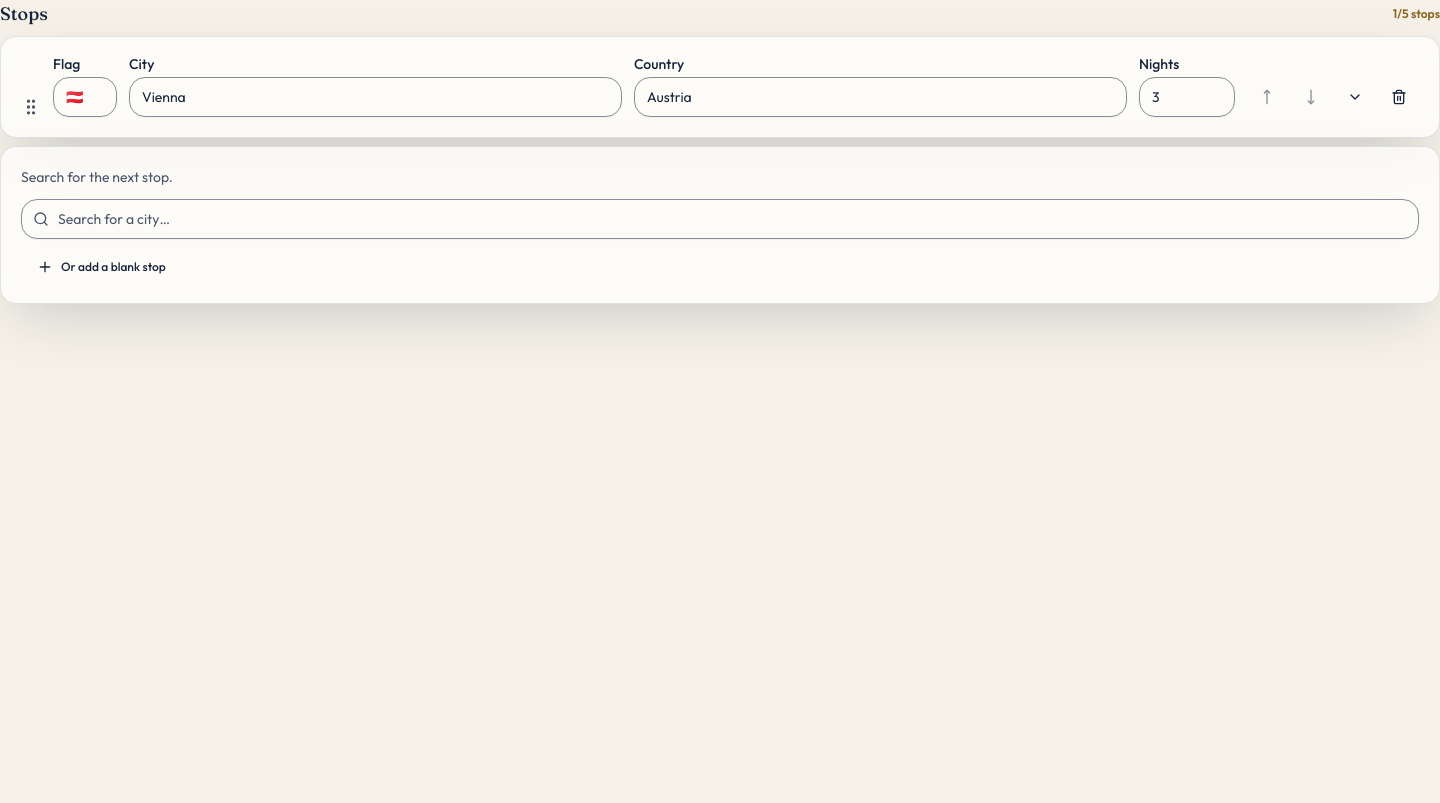
StopList › expands a stop row to reveal its detail fields
Check: the field showing "Coffee houses" is not shown
Click the button named "Edit all details" at (1355, 97), box [1335,77,1375,117]
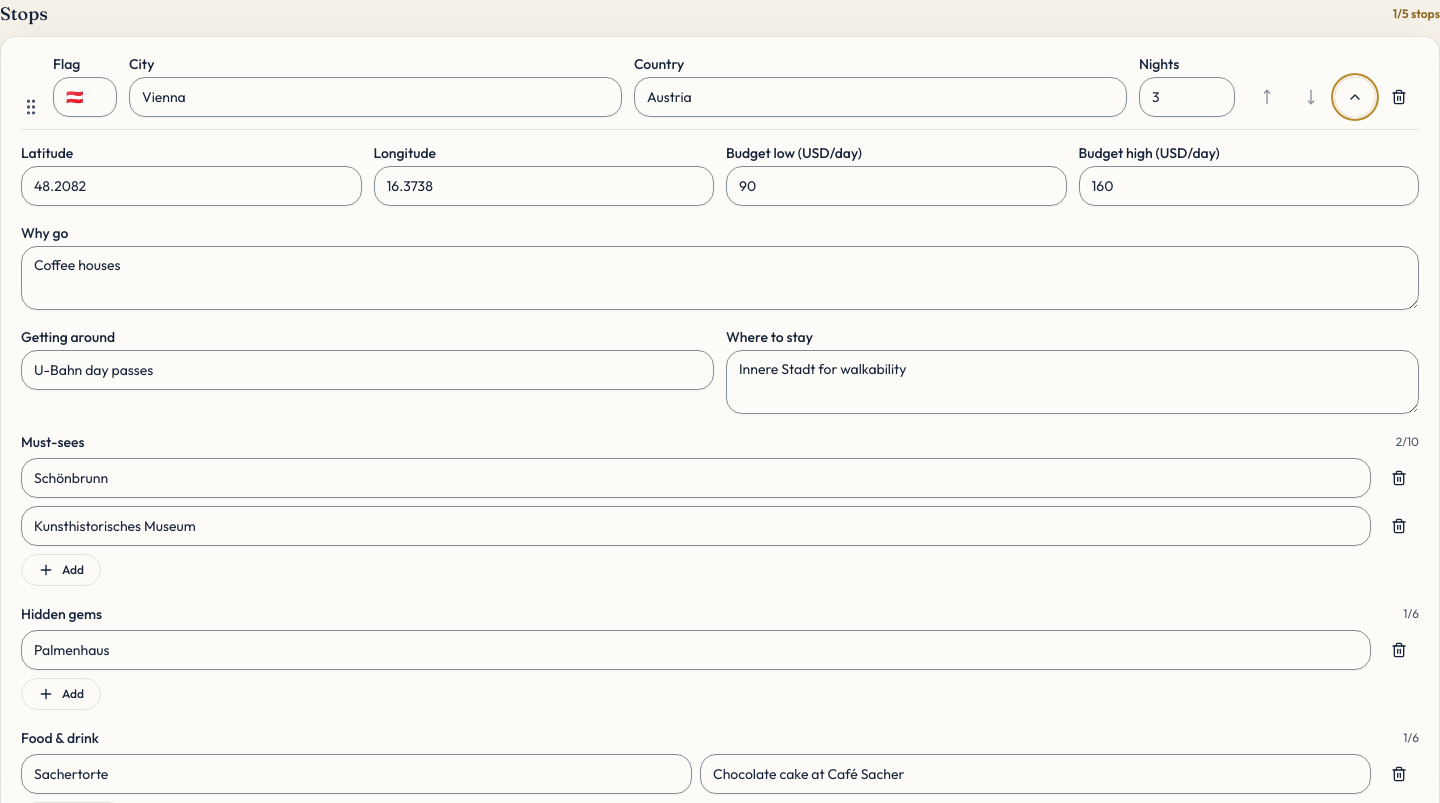
Check: the text box showing "Coffee houses" is shown, box [21,246,1419,310]
